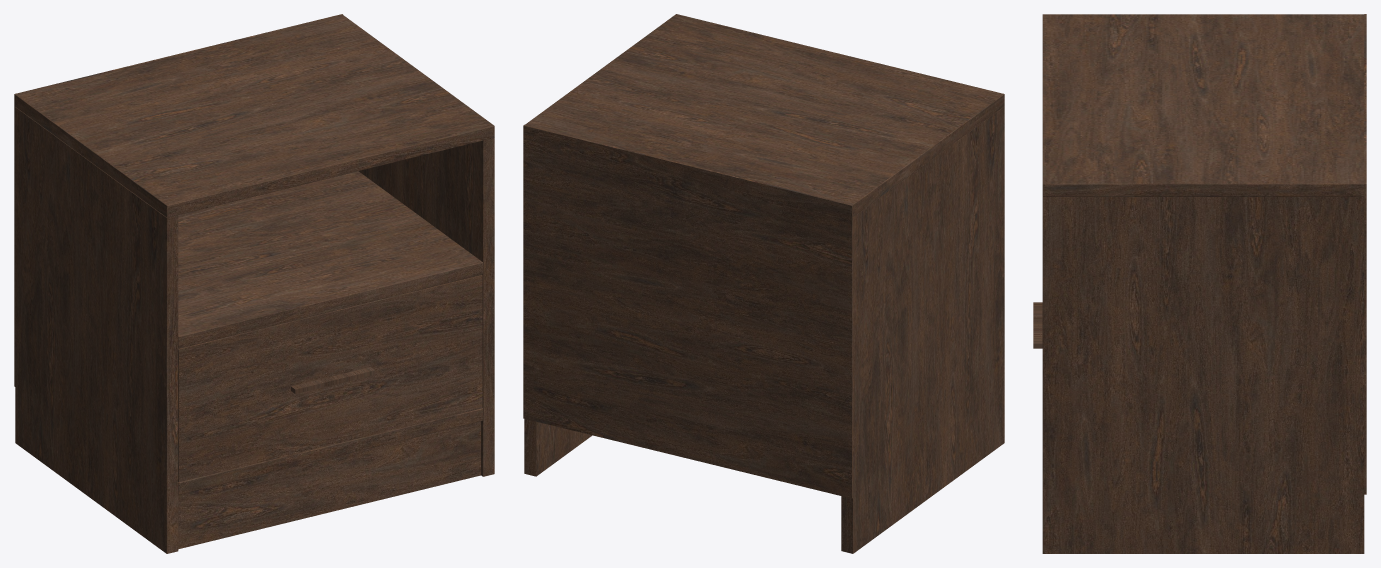
Rendered from cabinet_allmorphs.glb.
3 views of the same model, side by side, from view 1: azimuth 30°, elevation 25°; view 2: azimuth 150°, elevation 25°; view 3: azimuth 270°, elevation 25° (orthographic). The views are drawn at different scales.
Parts seen in each view (by area): view 1: szafka-brw1; view 2: szafka-brw1; view 3: szafka-brw1.
Part boxes in pixels (x1,y1,x2,y2): szafka-brw1: [14, 14, 494, 553]; szafka-brw1: [523, 14, 1004, 553]; szafka-brw1: [1033, 14, 1366, 553].
Size of the model in its own units: 0.5 by 0.5074 by 0.4146.
Materials: 1 (1 with a texture image).
